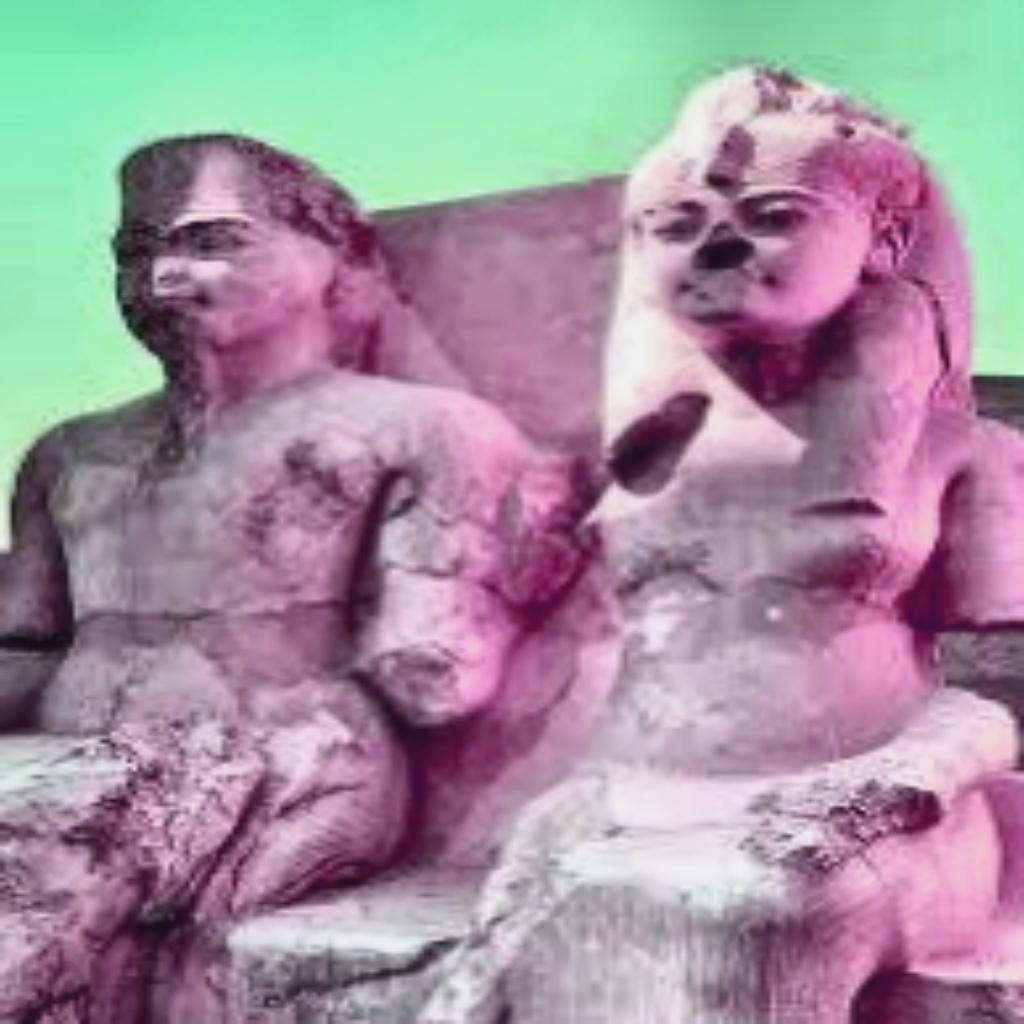Statue of Ankhesenamun: (448, 51, 1018, 1020)
Statue of Tutankhamun: (0, 123, 523, 1020)
